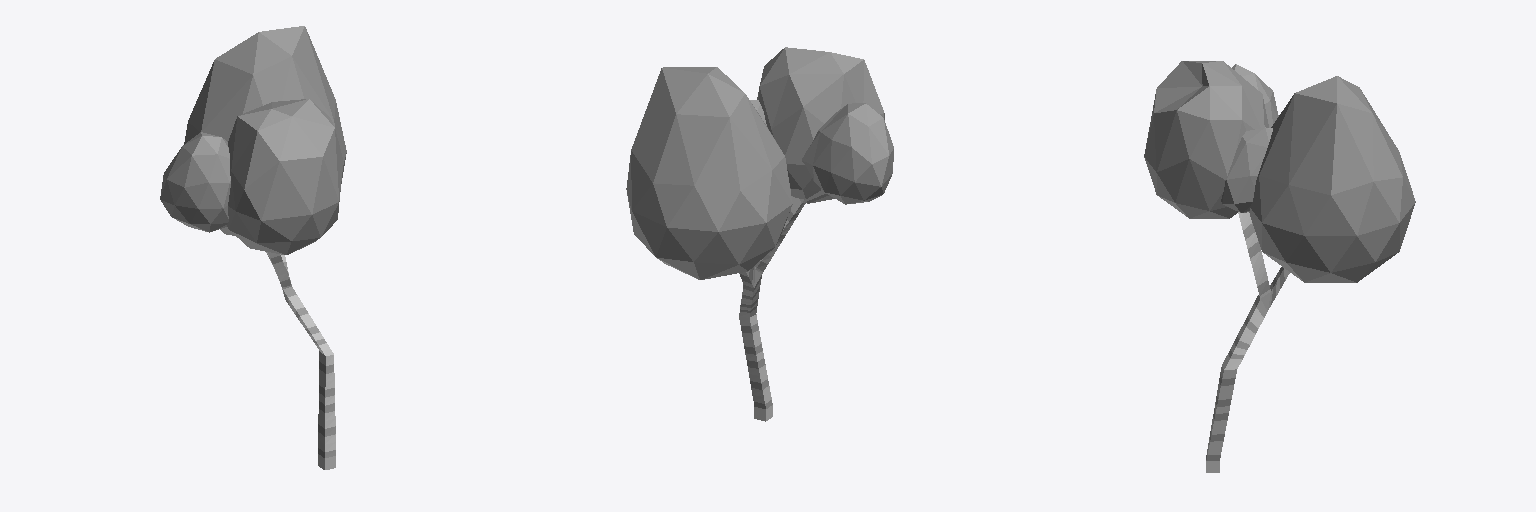
The model's file is tree4.obj.
The picture shows the model from 3 angles: view 1: azimuth 30°, elevation 25°; view 2: azimuth 150°, elevation 25°; view 3: azimuth 270°, elevation 25°; orthographic projection.
Parts seen in each view (by area): view 1: Icosphere.002, Cube; view 2: Icosphere.002, Cube; view 3: Icosphere.002, Cube.
Part boxes in pixels (bbox=[...]): Icosphere.002: bbox=[160, 26, 346, 254]; Cube: bbox=[266, 252, 335, 469]; Icosphere.002: bbox=[626, 47, 893, 279]; Cube: bbox=[739, 189, 825, 421]; Icosphere.002: bbox=[1144, 61, 1415, 282]; Cube: bbox=[1206, 212, 1289, 472].
Bounding box in the file's own units: 7.26 × 12.88 × 8.11.